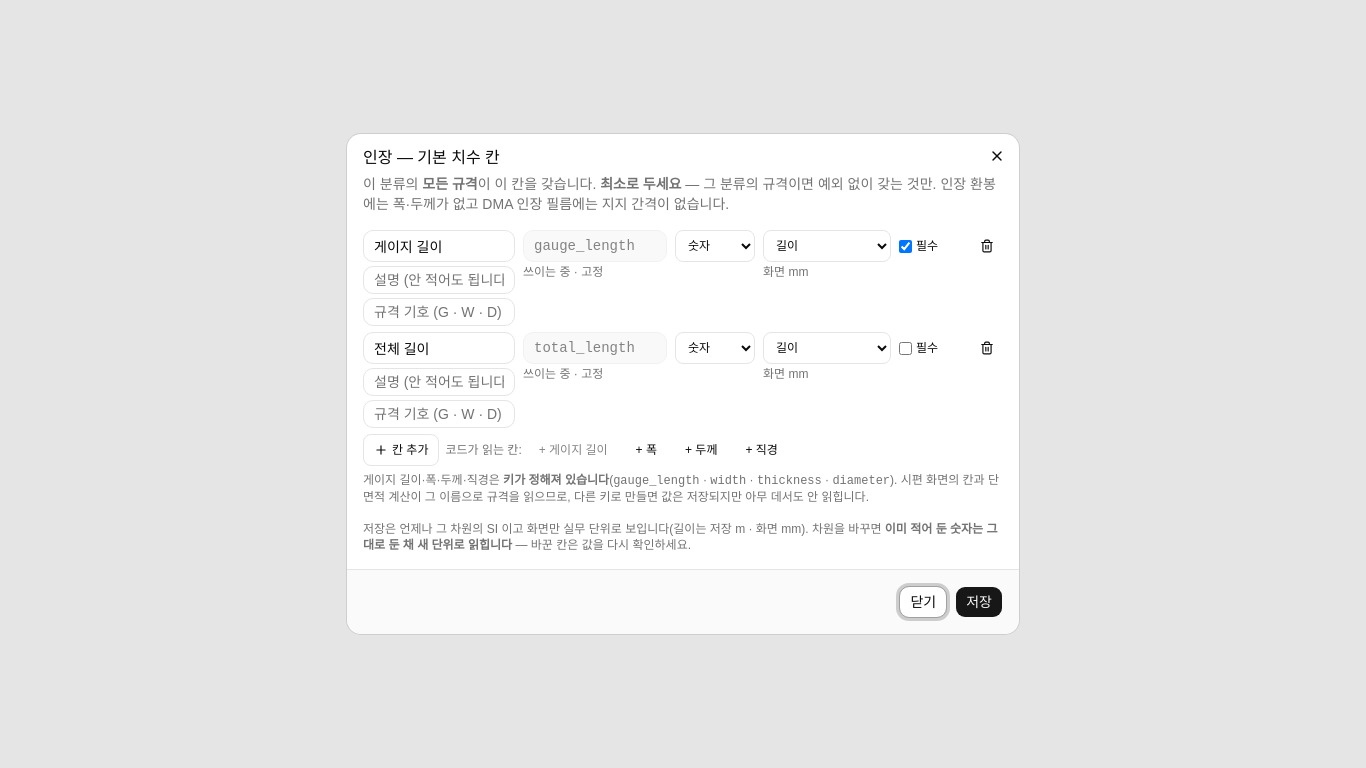
Test: 치수 칸 정의 › 칸을 빼면 값이 어떻게 되는지 말한다
Check: the field named "2번 칸 이름" is shown, box [363,332,515,364]
Click the button named "2번 칸 제거". click: (987, 348)
box: [971,332,1003,364]
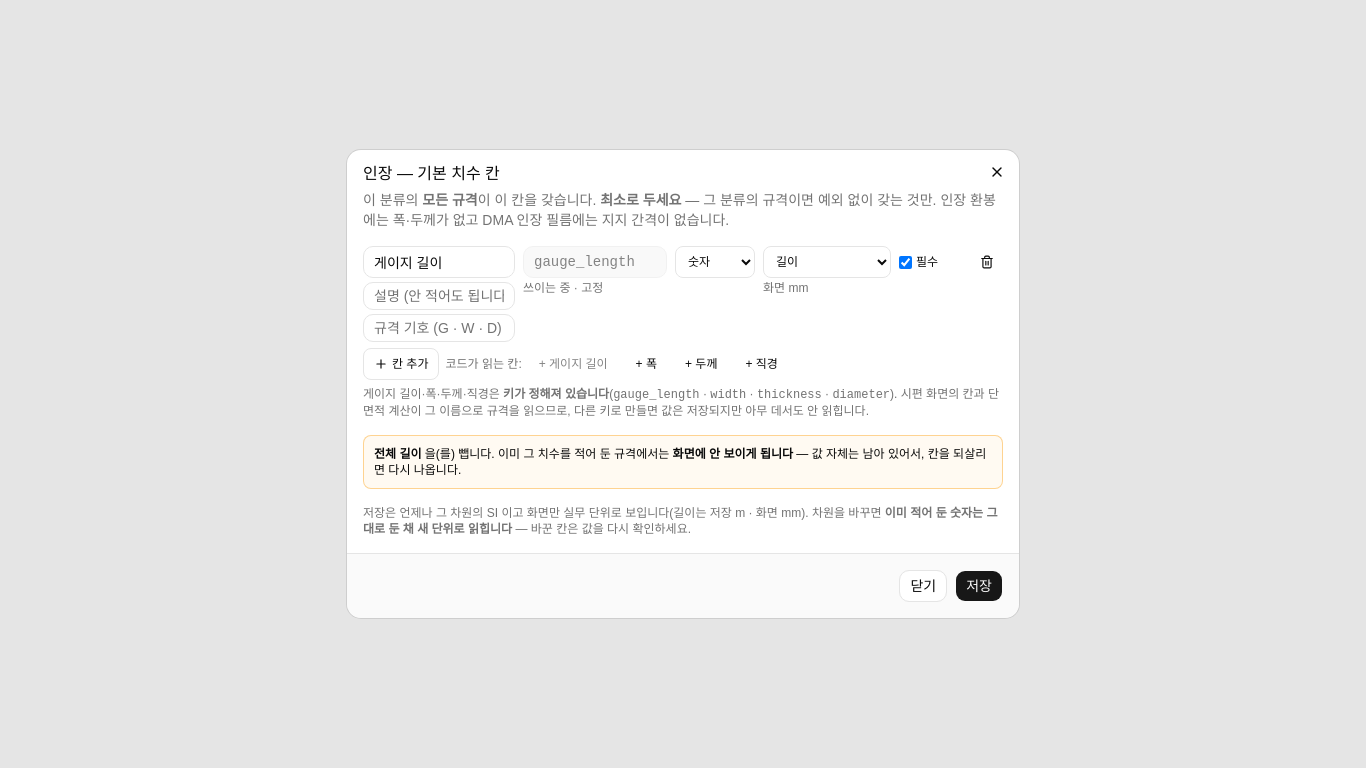
Check: the text "화면에 안 보이게 됩니다" shows "전체 길이", box [374,447,422,461]
Check: the text "화면에 안 보이게 됩니다" shows "되살리면 다시 나옵니다", box [374,447,986,477]
